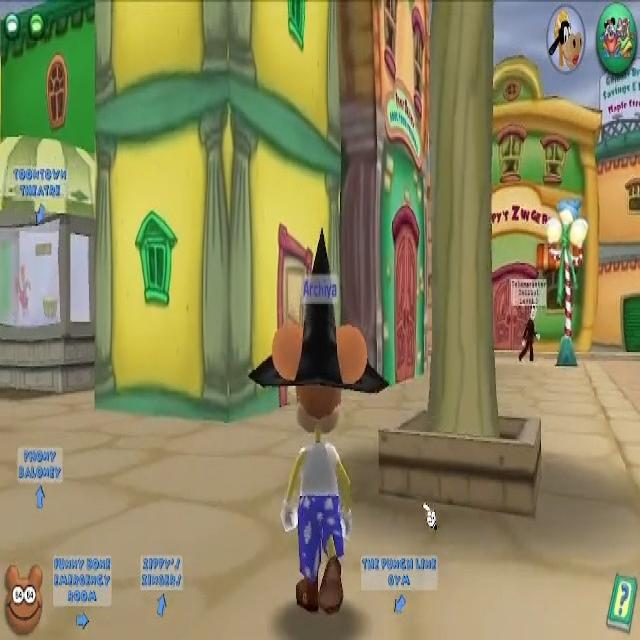telemarketer: (512, 278, 546, 366)
